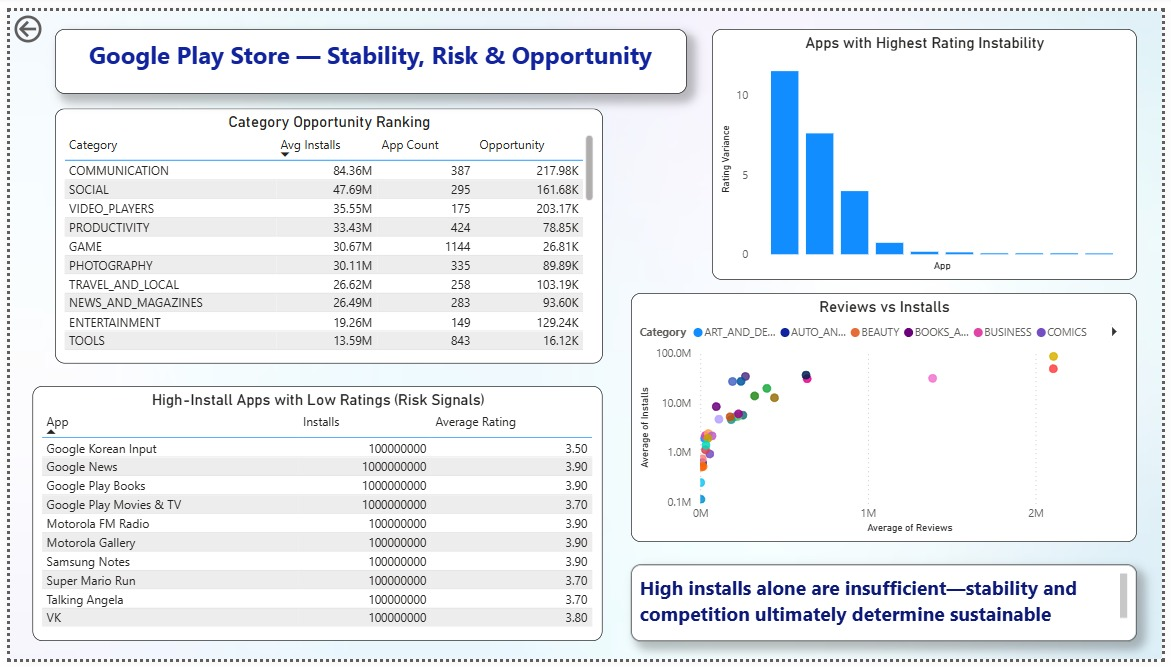

This screenshot's page, from the dashboard's own definition file:
{"tool":"powerbi","page":{"name":"Stability, Risk & Opportunity","canvas":[1280,720],"ordinal":2},"visuals":[{"type":"clusteredColumnChart","title":"Apps with Highest Rating Instability","fields":{"Category":["googleplaystore.App"],"Y":["googleplaystore.Rating Variance"]},"box":[780,20,471.7,278.3],"z":0},{"type":"scatterChart","title":"Reviews vs Installs","fields":{"X":["Avg(googleplaystore.Reviews)"],"Y":["Avg(googleplaystore.Installs)"],"Series":["googleplaystore.Category"]},"box":[690,313.3,561.7,276.7],"z":1000},{"type":"tableEx","title":"High-Install Apps with Low Ratings (Risk Signals)","fields":{"Values":["googleplaystore.App","googleplaystore.Installs","googleplaystore.Average Rating"]},"box":[25,416.7,633.3,283.3],"z":2000},{"type":"tableEx","title":"Category Opportunity Ranking","fields":{"Values":["googleplaystore.Category","Avg(googleplaystore.Installs)","googleplaystore.App Count","googleplaystore.Opportunity Score"]},"box":[50,108.3,608.3,283.3],"z":3000},{"type":"actionButton","box":[0,0,100,40],"z":4000},{"type":"textbox","box":[50,20,701.7,71.7],"z":4001},{"type":"textbox","box":[690,615,561.7,85],"z":4002}]}

Visuals, with their boxes in screenshot pixels (x1, y1, x2, y2), scaled from the page's 1280x720 canvas onto the 1171x667 screenshot:
"Apps with Highest Rating Instability" clusteredColumnChart: {"x1": 714, "y1": 19, "x2": 1145, "y2": 276}
"Reviews vs Installs" scatterChart: {"x1": 631, "y1": 290, "x2": 1145, "y2": 547}
"High-Install Apps with Low Ratings (Risk Signals)" tableEx: {"x1": 23, "y1": 386, "x2": 602, "y2": 648}
"Category Opportunity Ranking" tableEx: {"x1": 46, "y1": 100, "x2": 602, "y2": 363}
actionButton: {"x1": 0, "y1": 0, "x2": 91, "y2": 37}
textbox: {"x1": 46, "y1": 19, "x2": 688, "y2": 85}
textbox: {"x1": 631, "y1": 570, "x2": 1145, "y2": 648}
